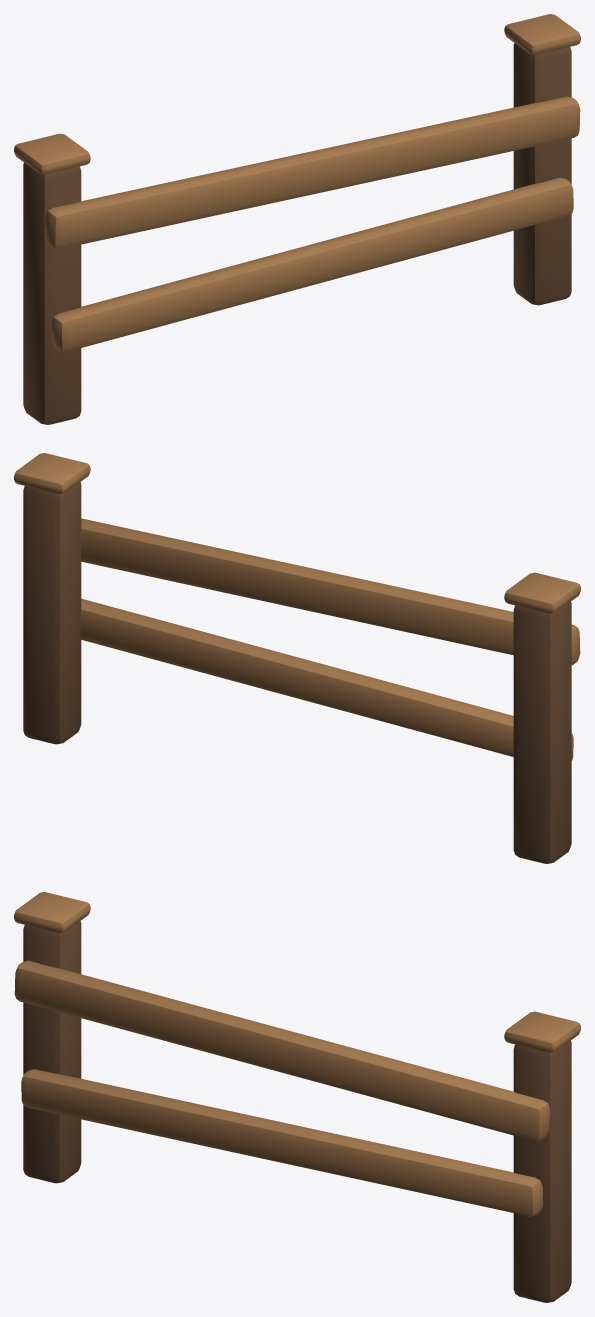
Rendered from RailFence.fbx.
3 renders of one model, top to bottom at view 1: azimuth 30°, elevation 25°; view 2: azimuth 150°, elevation 25°; view 3: azimuth 330°, elevation 25°, orthographic.
Parts seen in each view (by area): view 1: RailFence; view 2: RailFence; view 3: RailFence.
Part boxes in pixels (left/top/right/bottom): RailFence: left=14, top=14, right=580, bottom=424; RailFence: left=14, top=453, right=580, bottom=863; RailFence: left=14, top=892, right=580, bottom=1302.
Size of the model in its own units: 2.1 by 0.995 by 0.245.
